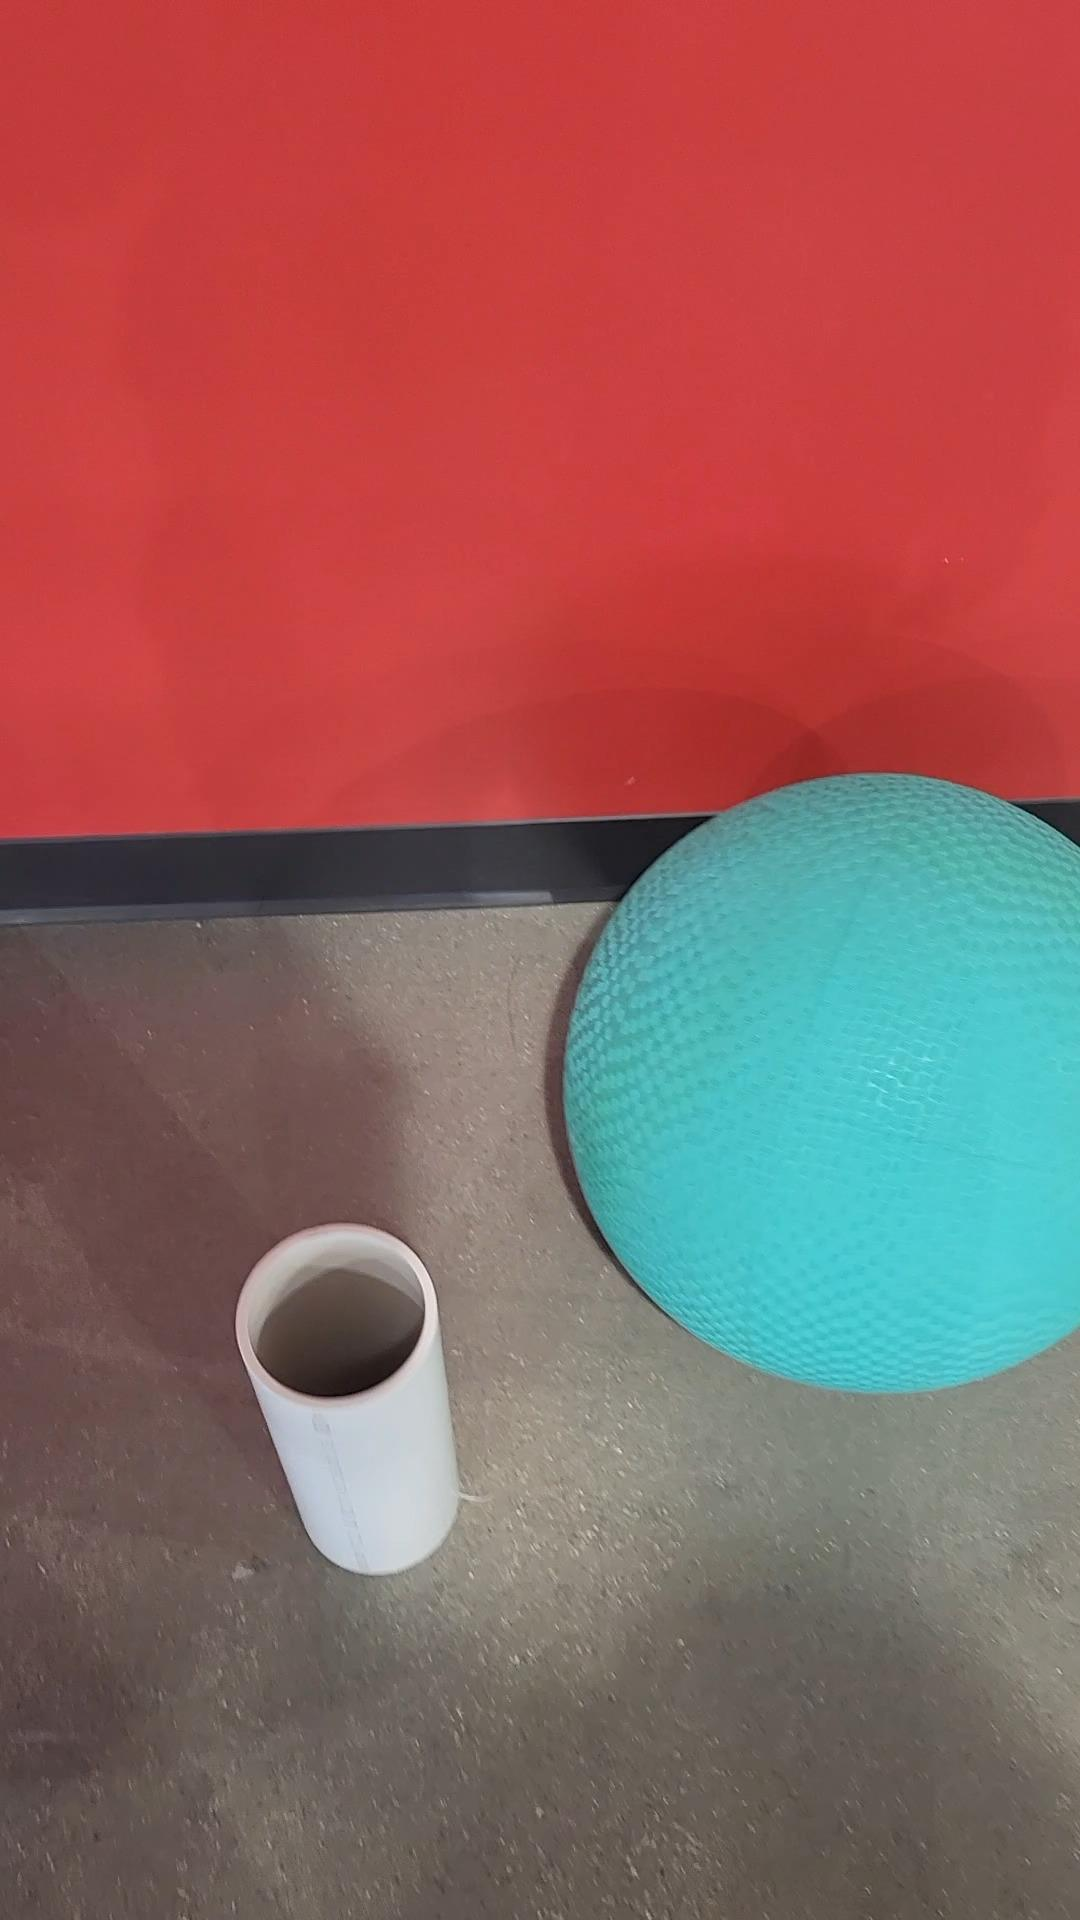algae: (558, 769, 1079, 1395)
coral: (235, 1220, 462, 1572)
